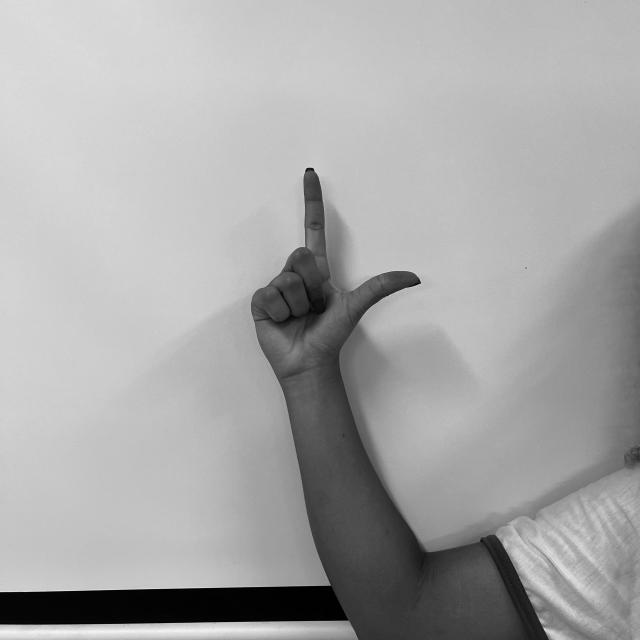Letra L: (247, 162, 425, 381)
